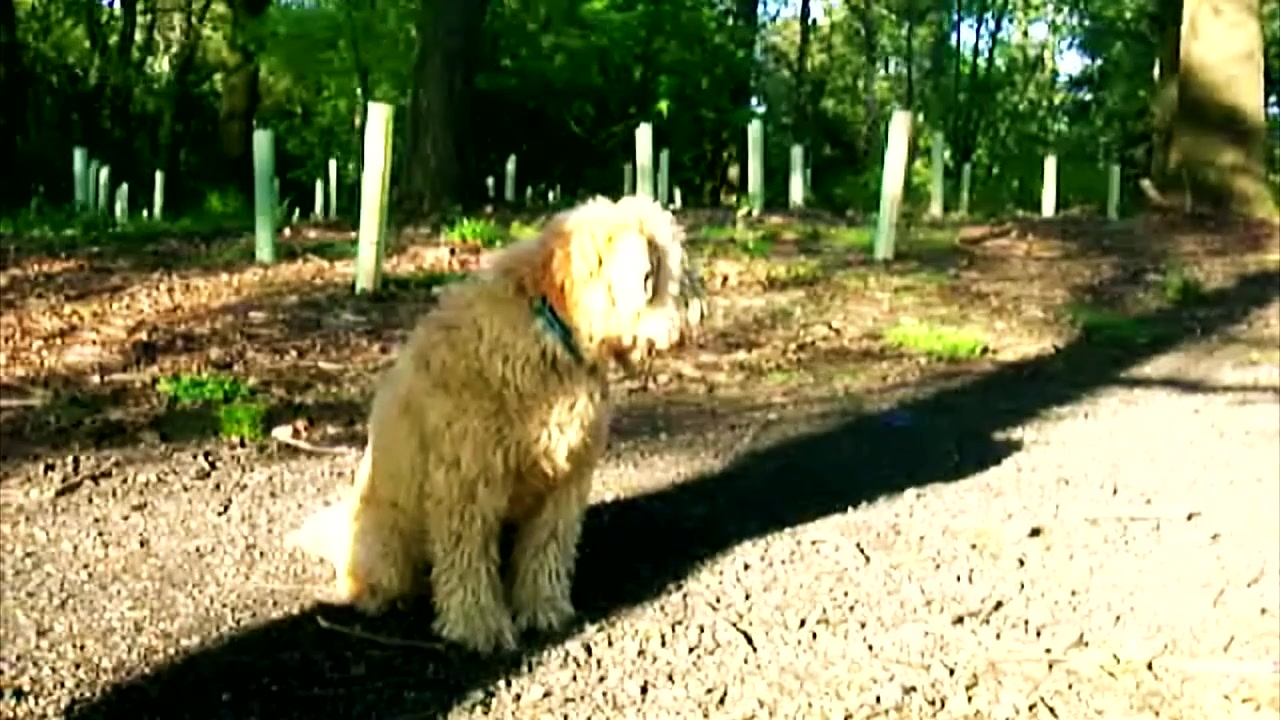dog: (291, 193, 706, 655)
